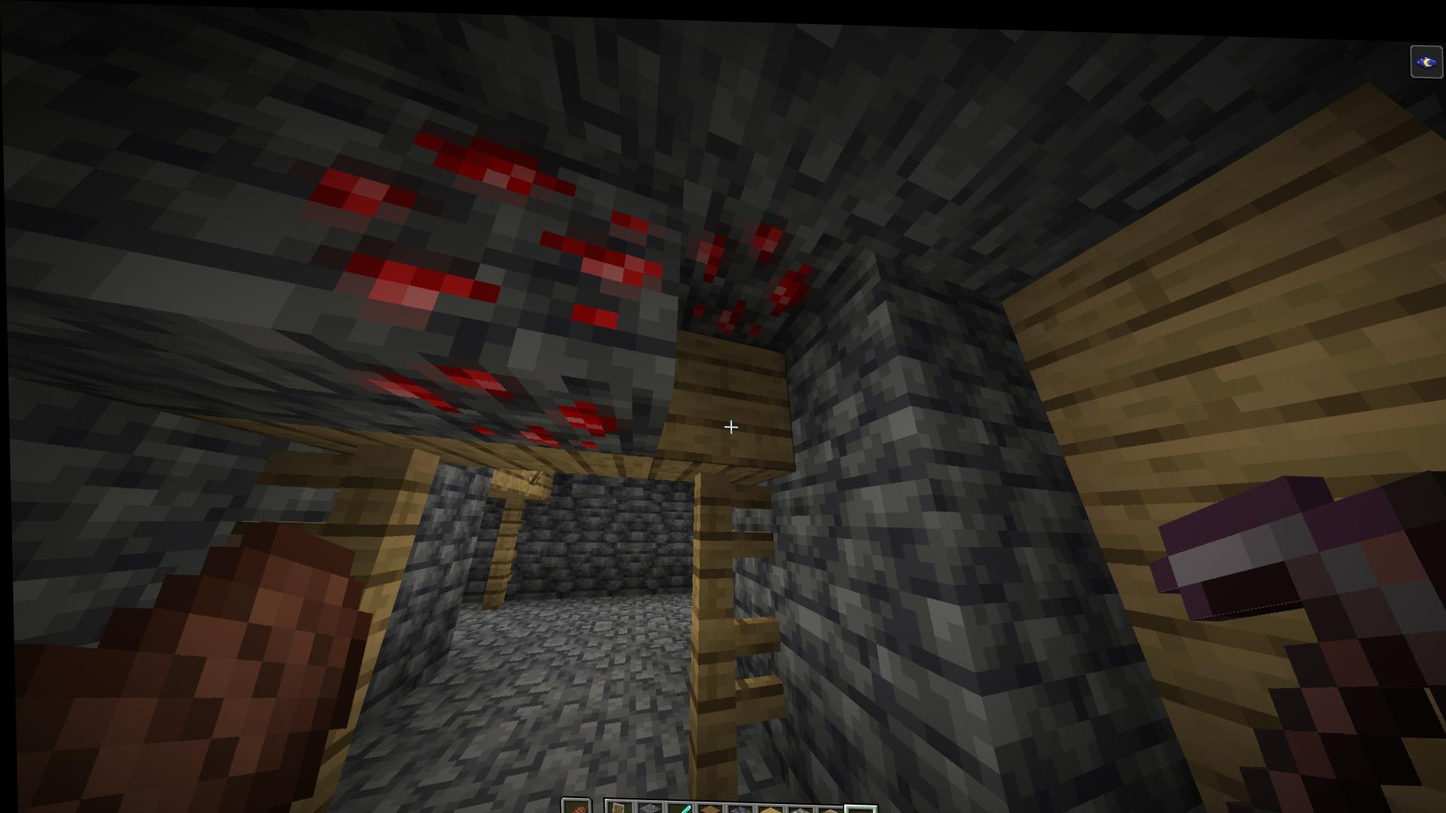redstone ore: (300, 107, 676, 363), (343, 341, 627, 453), (679, 200, 820, 345)
